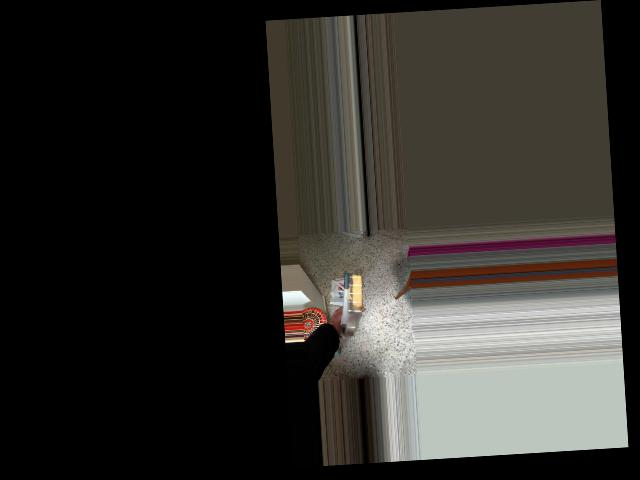cheese: (303, 270, 382, 326)
